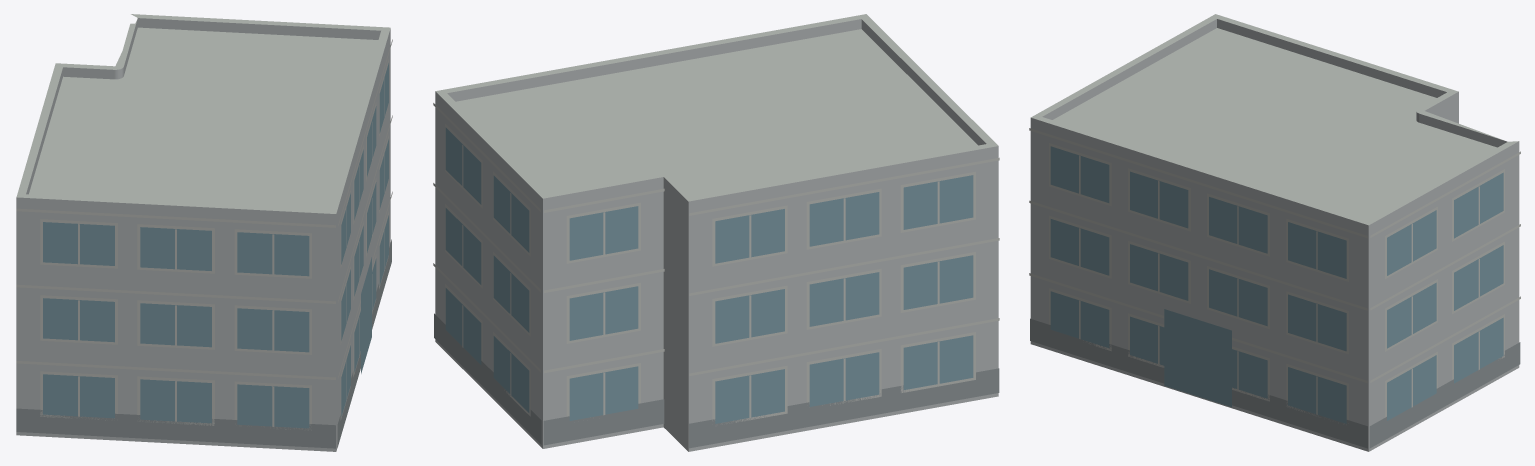
Rendered from public-954b38e2-ad32-4e57-89d7-482b224bf991.glb.
3 renders of one model, left to right at view 1: azimuth 30°, elevation 25°; view 2: azimuth 150°, elevation 25°; view 3: azimuth 270°, elevation 25°, orthographic. The views are drawn at different scales.
Parts seen in each view (by area): view 1: public-954b38e2-ad32-4e57-89d7-482b224bf991; view 2: public-954b38e2-ad32-4e57-89d7-482b224bf991; view 3: public-954b38e2-ad32-4e57-89d7-482b224bf991.
Boxes of the visible parts, x1=… form: public-954b38e2-ad32-4e57-89d7-482b224bf991: x1=16, y1=14, x2=392, y2=451; public-954b38e2-ad32-4e57-89d7-482b224bf991: x1=433, y1=14, x2=999, y2=451; public-954b38e2-ad32-4e57-89d7-482b224bf991: x1=1029, y1=14, x2=1520, y2=451.
Bounding box in the file's own units: 18.42 × 9.15 × 18.
